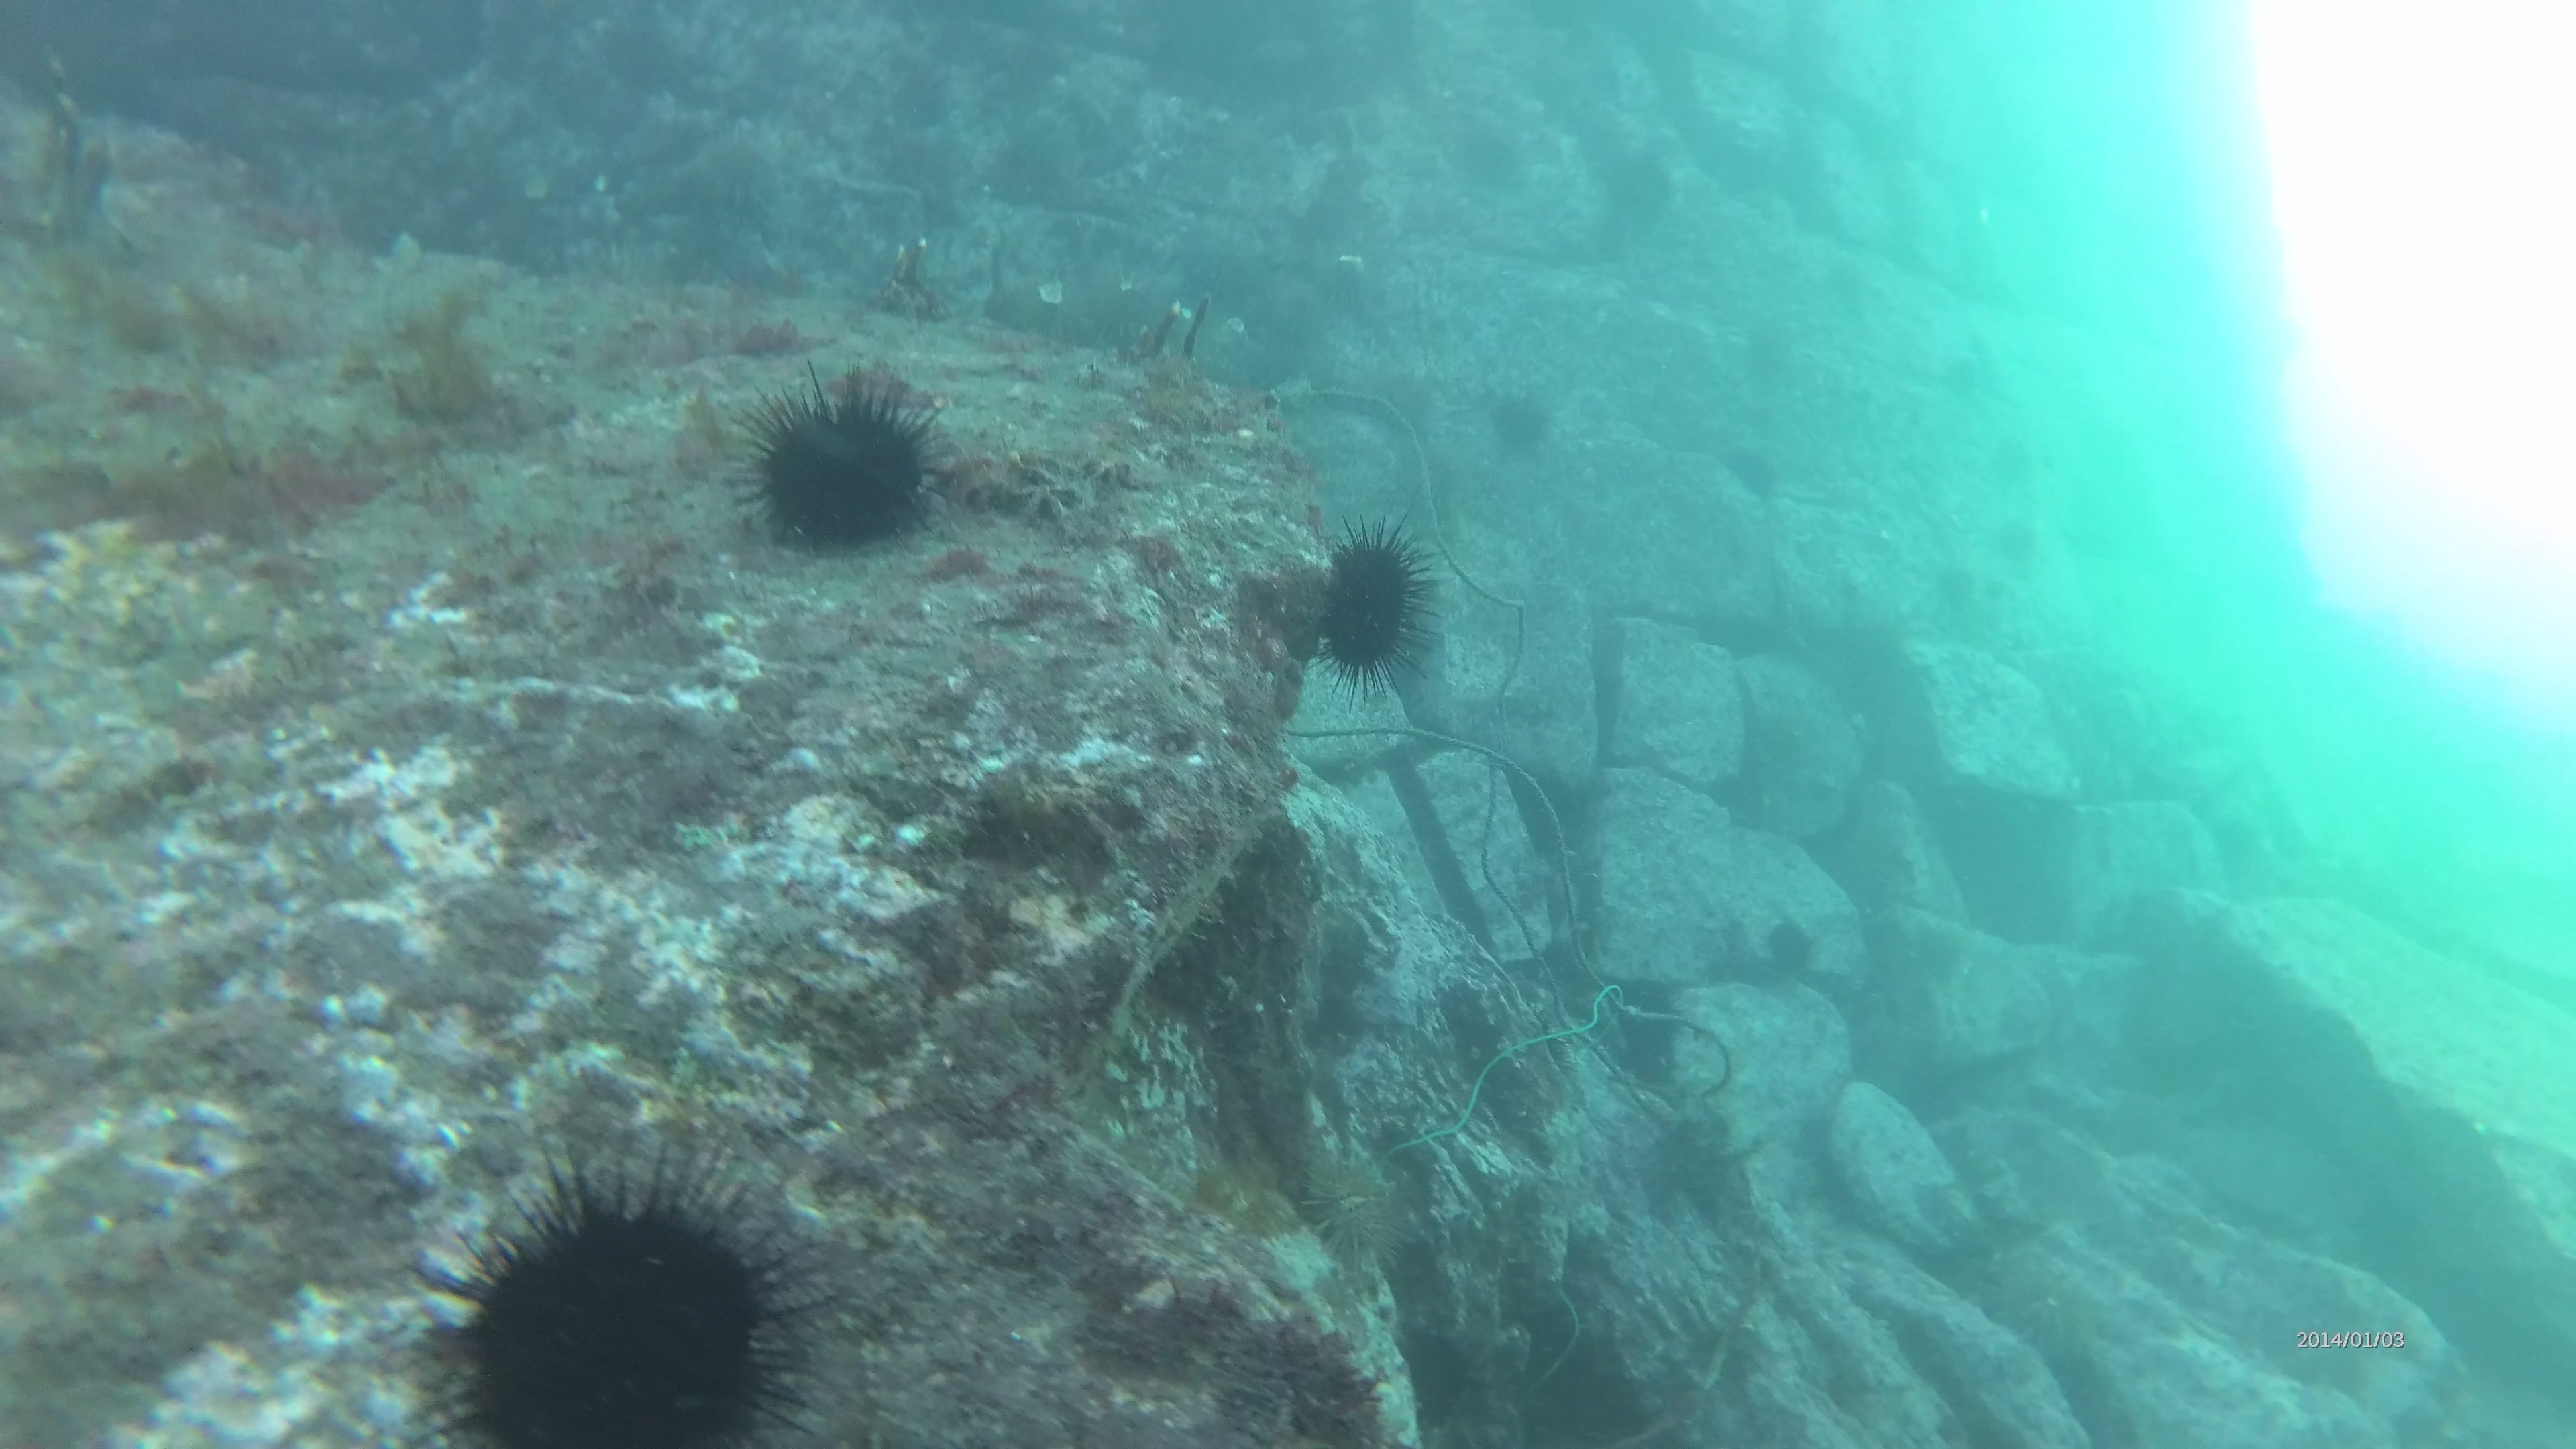echinus: (409, 1150, 819, 1445), (729, 364, 952, 563), (1302, 515, 1444, 692), (1288, 1131, 1421, 1276), (1479, 379, 1560, 464), (1468, 136, 1534, 191), (1764, 913, 1813, 975), (1727, 444, 1782, 499), (1746, 318, 1792, 370), (1936, 561, 1980, 612), (1992, 444, 2036, 494), (1996, 513, 2036, 564), (1944, 361, 1980, 402)
